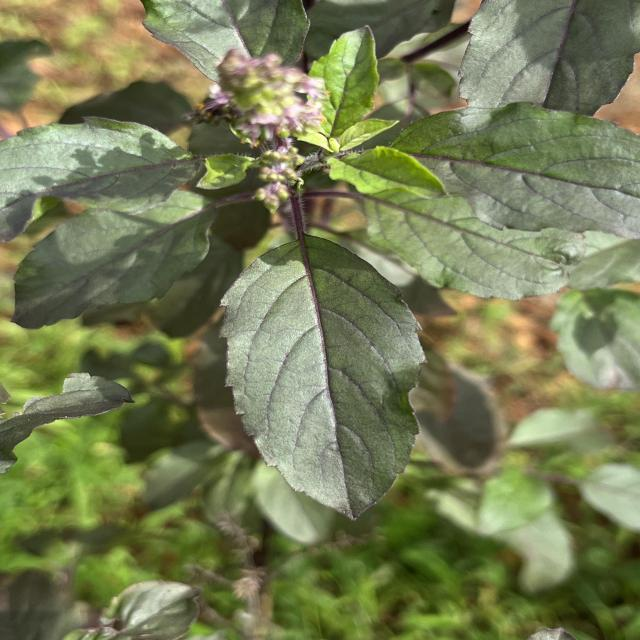Ocimum tenuiflorum: (216, 230, 430, 524)
